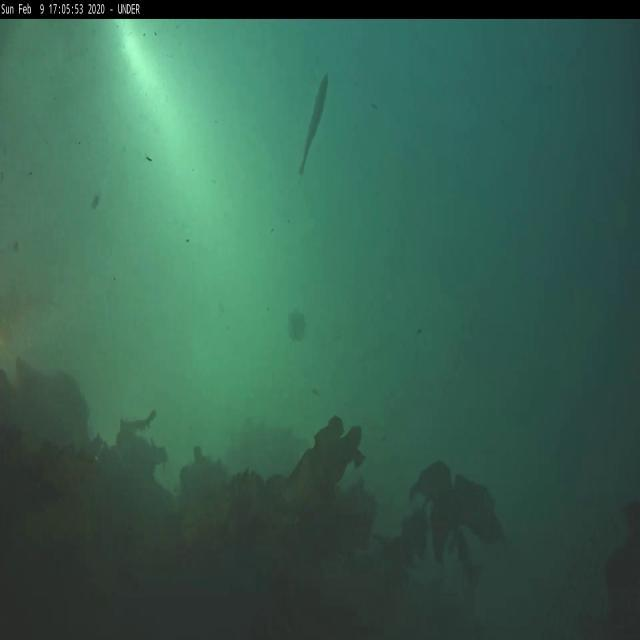fish: (301, 74, 329, 176)
